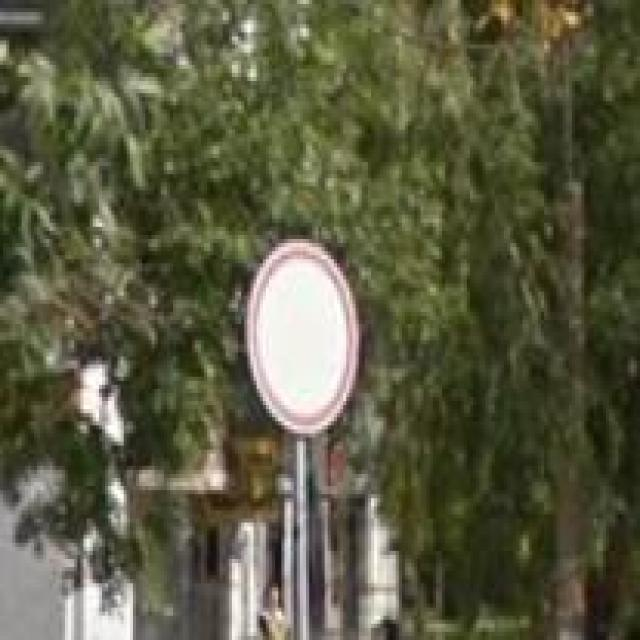no_passing: (247, 239, 362, 433)
